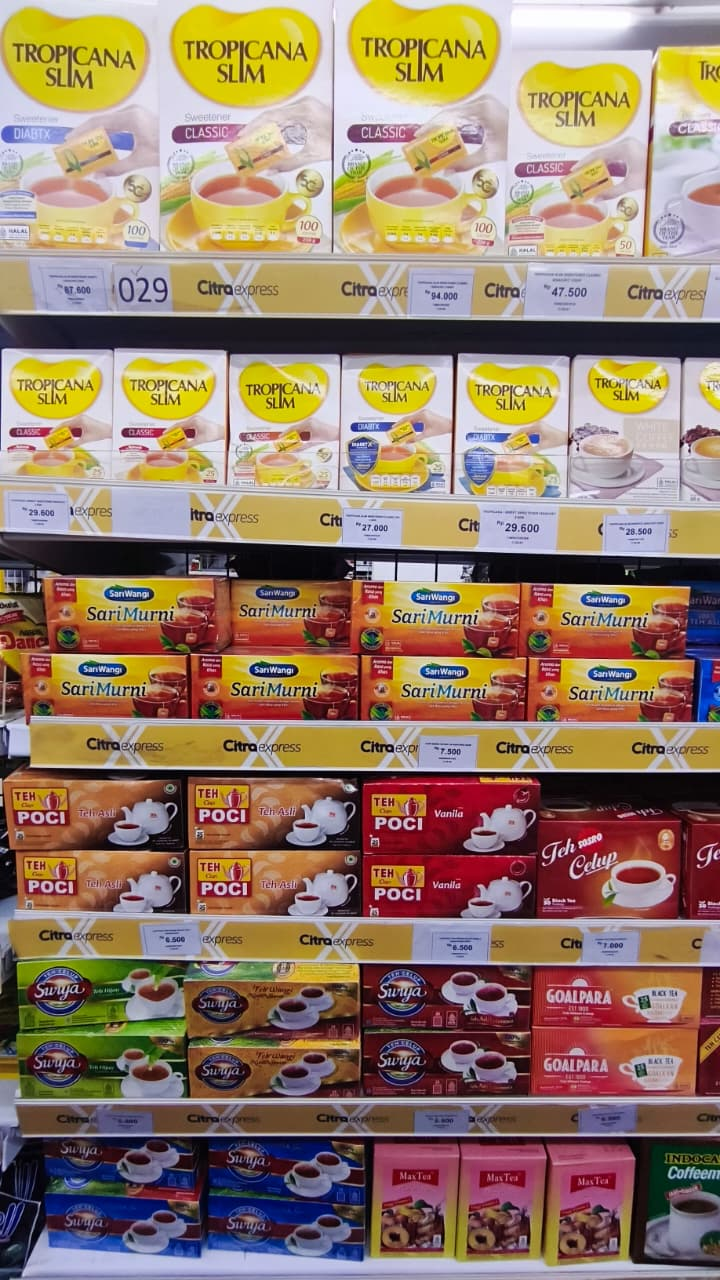Poci: (349, 767, 441, 859), (180, 766, 272, 858), (5, 834, 97, 926)
Sari Murni: (535, 555, 660, 680), (63, 549, 188, 674), (207, 635, 332, 760)
Tropicana Slim: (346, 3, 500, 157), (511, 30, 665, 184), (1, 1, 154, 154), (113, 349, 219, 455), (459, 347, 565, 453)
